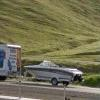Boat: (23, 51, 84, 89)
